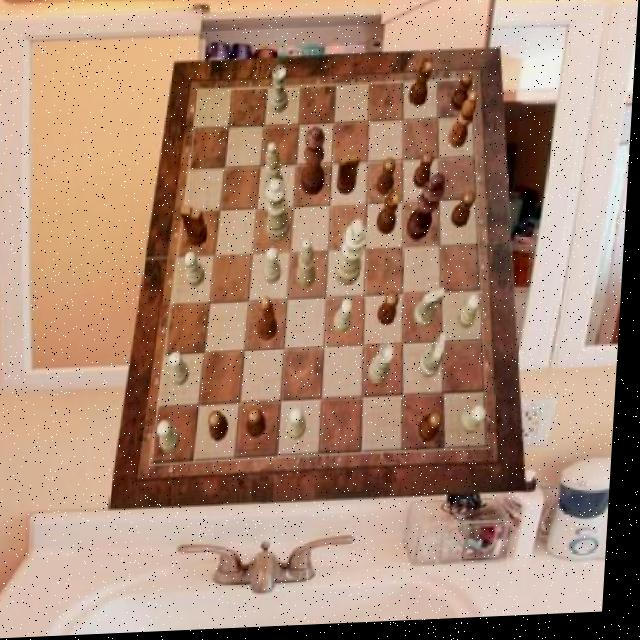bishop: (451, 96, 480, 152), (260, 299, 284, 345)
black-bishop: (409, 178, 448, 245)
black-king: (182, 206, 211, 248), (338, 156, 362, 199)
black-knight: (453, 195, 478, 232), (452, 77, 474, 116), (423, 414, 447, 448), (381, 296, 404, 331), (379, 161, 399, 199), (415, 156, 436, 192), (213, 412, 234, 446), (251, 410, 272, 441)
black-pawn: (302, 132, 329, 200)
black-queen: (411, 62, 436, 110), (379, 193, 404, 240)
black-rook: (267, 143, 290, 199), (300, 242, 322, 292)
white-bishop: (338, 222, 372, 289)
white-king: (423, 336, 453, 382), (417, 292, 450, 331)
white-knight: (186, 254, 210, 291), (162, 420, 186, 455), (462, 298, 486, 333), (172, 353, 195, 388), (465, 410, 492, 438), (291, 410, 312, 445), (336, 302, 357, 337), (268, 248, 287, 286)
white-pawn: (265, 180, 295, 245)
white-queen: (373, 348, 400, 389), (271, 68, 292, 117)
